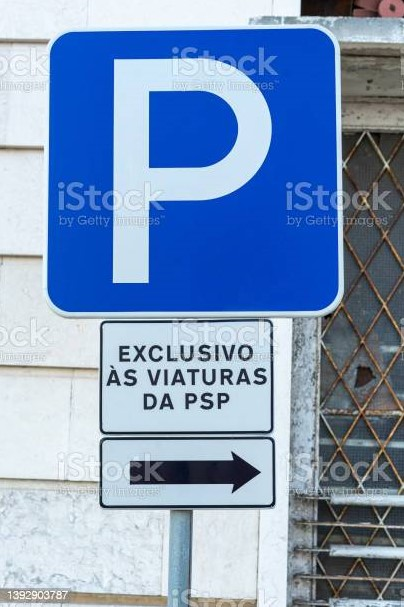Parking: (40, 21, 348, 322)
